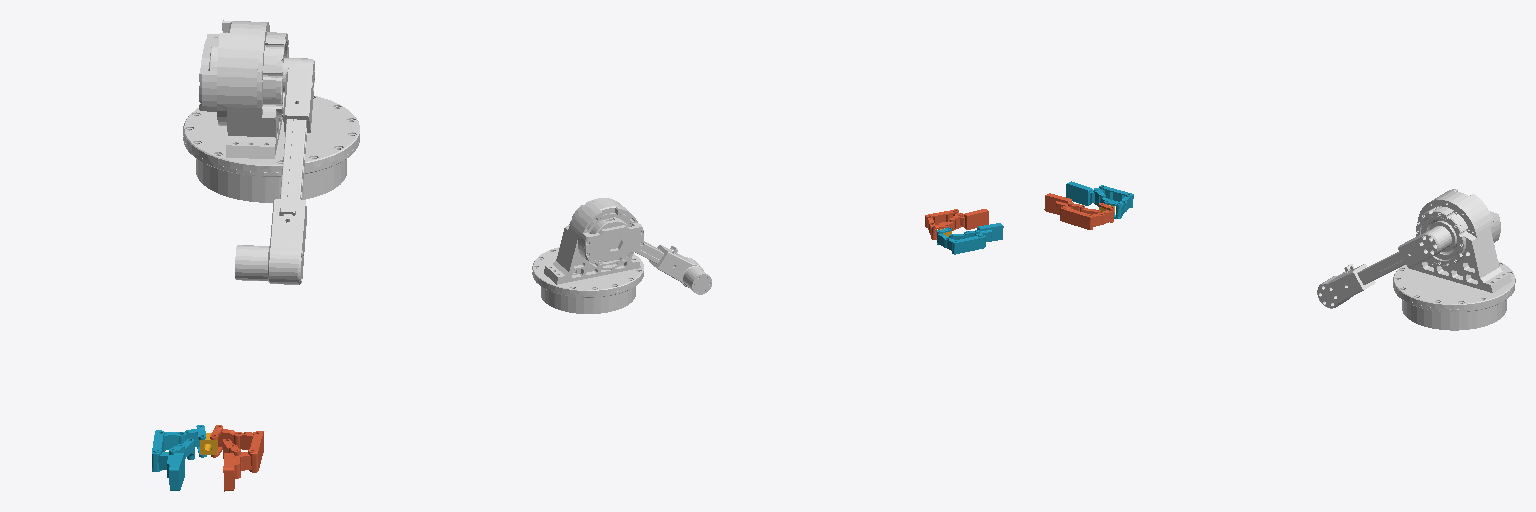
The robot description file, URDF, robot "pallet_adaptive":
<?xml version='1.0' encoding='utf-8'?>
<robot name="pallet_adaptive">
  <link name="base_link">
    <inertial>
      <origin xyz="-0.0017917270976323 0.039217584410161 2.223709062954e-05" rpy="-0.078609874443187 1.0498236515473 2.0863790813064e-08" />
      <mass value="1.662859" />
      <inertia ixx="0.00332054" ixy="3.163E-05" ixz="-3.99E-06" iyy="0.00471532" iyz="-5.546E-05" izz="0.00331361" />
    </inertial>
    <visual>
      <origin xyz="0.1508160199299 0.66028162834058 1.4520054605764" rpy="-1.6494062012381 1.0498236515473 2.0863798244619e-08" />
      <geometry>
        <mesh filename="package://pallet/meshes/mass_revised/base_link.STL" />
      </geometry>
      <material name="">
        <color rgba="0.89412 0.89412 0.89412 1" />
      </material>
    </visual>
    <collision>
      <origin xyz="0.1508160199299 0.66028162834058 1.4520054605764" rpy="-1.6494062012381 1.0498236515473 2.0863798244619e-08" />
      <geometry>
        <mesh filename="package://pallet/meshes/mass_revised/base_link.STL" />
      </geometry>
    </collision>
  </link>
  <link name="no.1">
    <inertial>
      <origin xyz="0.0091039 0.072516 0.0063557" rpy="-6.2450045135166e-17 0 -5.5511151231256e-17" />
      <mass value="0.99102896" />
      <inertia ixx="0.00249001" ixy="-0.00026003" ixz="4.608E-05" iyy="0.00199329" iyz="-0.00014996" izz="0.00280726" />
    </inertial>
    <visual>
      <origin xyz="6.2450045135165e-17 -3.1918911957973e-16 -1.5612511283791e-17" rpy="-6.2450045135166e-17 0 -5.5511151231256e-17" />
      <geometry>
        <mesh filename="package://pallet/meshes/mass_revised/no.1.STL" />
      </geometry>
      <material name="">
        <color rgba="0.89412 0.89412 0.89412 1" />
      </material>
    </visual>
    <collision>
      <origin xyz="6.2450045135165e-17 -3.1918911957973e-16 -1.5612511283791e-17" rpy="-6.2450045135166e-17 0 -5.5511151231256e-17" />
      <geometry>
        <mesh filename="package://pallet/meshes/mass_revised/no.1.STL" />
      </geometry>
    </collision>
  </link>
  <link name="no.2">
    <inertial>
      <origin xyz="-0.12460462302051 2.647881186659e-05 0.022347999998403" rpy="5.9330673707336e-10 1.2150682682233e-09 -1.1758077977651" />
      <mass value="0.202" />
      <inertia ixx="0.00087971" ixy="0.00070208" ixz="3.72E-05" iyy="0.00066466" iyz="4.686E-05" izz="0.00145567" />
    </inertial>
    <visual>
      <origin xyz="2.1002838369749e-11 3.343069579193e-11 8.3446374568628e-12" rpy="5.9330673707336e-10 1.2150682682233e-09 -1.1758077977651" />
      <geometry>
        <mesh filename="package://pallet/meshes/mass_revised/no.2.STL" />
      </geometry>
      <material name="">
        <color rgba="0.89412 0.89412 0.89412 1" />
      </material>
    </visual>
    <collision>
      <origin xyz="2.1002838369749e-11 3.343069579193e-11 8.3446374568628e-12" rpy="5.9330673707336e-10 1.2150682682233e-09 -1.1758077977651" />
      <geometry>
        <mesh filename="package://pallet/meshes/mass_revised/no.2.STL" />
      </geometry>
    </collision>
  </link>
  <link name="no.3">
    <inertial>
      <origin xyz="-0.020747000030904 -2.8478339899024e-05 0.043723333770644" rpy="-2.3218510786302e-11 2.5401458714214e-10 -1.1480782355438e-09" />
      <mass value="1.166" />
      <inertia ixx="0.00640585" ixy="0.0016851" ixz="0.00022465" iyy="0.00148047" iyz="0.00077631" izz="0.00660946" />
    </inertial>
    <visual>
      <origin xyz="2.3009976746429e-10 0.21503152163758 0.099227333760381" rpy="-2.3218510786302e-11 2.5401458714214e-10 -1.1480782355438e-09" />
      <geometry>
        <mesh filename="package://pallet/meshes/mass_revised/no.3.STL" />
      </geometry>
      <material name="">
        <color rgba="0.89412 0.89412 0.89412 1" />
      </material>
    </visual>
    <collision>
      <origin xyz="2.3009976746429e-10 0.21503152163758 0.099227333760381" rpy="-2.3218510786302e-11 2.5401458714214e-10 -1.1480782355438e-09" />
      <geometry>
        <mesh filename="package://pallet/meshes/mass_revised/no.3.STL" />
      </geometry>
    </collision>
  </link>
  <link name="no.4">
    <inertial>
      <origin xyz="-0.0015161135473846 1.7940428258256e-05 0.053987334130975" rpy="-9.3710840855871e-10 6.8296568400683e-10 2.5242980198848e-10" />
      <mass value="0.25212036" />
      <inertia ixx="5.542E-05" ixy="4.87E-06" ixz="6.21E-06" iyy="4.106E-05" iyz="8.2E-07" izz="5.036E-05" />
    </inertial>
    <visual>
      <origin xyz="0.12425388643922 0.1754979405024 0.099227333880634" rpy="-9.3710840855871e-10 6.8296568400683e-10 2.5242980198848e-10" />
      <geometry>
        <mesh filename="package://pallet/meshes/mass_revised/no.4.STL" />
      </geometry>
      <material name="">
        <color rgba="1 1 1 1" />
      </material>
    </visual>
    <collision>
      <origin xyz="0.12425388643922 0.1754979405024 0.099227333880634" rpy="-9.3710840855871e-10 6.8296568400683e-10 2.5242980198848e-10" />
      <geometry>
        <mesh filename="package://pallet/meshes/mass_revised/no.4.STL" />
      </geometry>
    </collision>
  </link>
  <link name="no.5">
    <inertial>
      <origin xyz="9.6113877699783e-05 -1.5063608519134e-05 -0.046222739292869" rpy="-6.6087677933213e-10 -9.9955599353052e-10 -6.6656042383513e-11" />
      <mass value="0.35" />
      <inertia ixx="0.00019208" ixy="-5.496E-05" ixz="-5.071E-05" iyy="0.00026015" iyz="3.054E-05" izz="0.00020944" />
    </inertial>
    <visual>
      <origin xyz="-0.12425388602693 -0.1340650636692 -0.15057273932857" rpy="-6.6087677933213e-10 -9.9955599353052e-10 -6.6656042383513e-11" />
      <geometry>
        <mesh filename="package://pallet/meshes/mass_revised/no.5.STL" />
      </geometry>
      <material name="">
        <color rgba="0.89412 0.89412 0.89412 1" />
      </material>
    </visual>
    <collision>
      <origin xyz="-0.12425388602693 -0.1340650636692 -0.15057273932857" rpy="-6.6087677933213e-10 -9.9955599353052e-10 -6.6656042383513e-11" />
      <geometry>
        <mesh filename="package://pallet/meshes/mass_revised/no.5.STL" />
      </geometry>
    </collision>
  </link>
  <link name="gripper">
    <inertial>
      <origin xyz="-5.2809570660339e-06 -0.0028472612426801 -0.00012798006247315" rpy="-1.2295285164861e-09 -0.8073483958801 1.0329738076366e-09" />
      <mass value="0.35218616" />
      <inertia ixx="0.00017781" ixy="-5.818E-05" ixz="7.205E-05" iyy="0.00024068" iyz="3.354E-05" izz="0.00022588" />
    </inertial>
    <visual>
      <origin xyz="0.16586133531753 0.15057273884674 0.076827644210076" rpy="-1.2295285164861e-09 -0.8073483958801 1.0329738076366e-09" />
      <geometry>
        <mesh filename="package://pallet/meshes/mass_revised/gripper.STL" />
      </geometry>
      <material name="">
        <color rgba="0.89412 0.89412 0.89412 1" />
      </material>
    </visual>
    <collision>
      <origin xyz="0.16586133531753 0.15057273884674 0.076827644210076" rpy="-1.2295285164861e-09 -0.8073483958801 1.0329738076366e-09" />
      <geometry>
        <mesh filename="package://pallet/meshes/mass_revised/gripper.STL" />
      </geometry>
    </collision>
  </link>
  <joint name="J1" type="revolute">
    <origin xyz="-0.0019451 0.043004 0" rpy="-3.141585307179587 -0.4386100000000002 -3.0964" />
    <parent link="base_link" />
    <child link="no.1" />
    <axis xyz="0 1 0" />
    <limit lower="-3.141592653589793" upper="3.141592653589793" effort="14" velocity="6.28" />
  </joint>
  <joint name="J2" type="revolute">
    <origin xyz="0.0133081654565508 0.11835224659499 -0.00768347290876137" rpy="-2.815387738468897 -0.4171744477814099 2.445921489969222" />
    <parent link="no.1" />
    <child link="no.2" />
    <axis xyz="0 0 1" />
    <limit lower="-3.141592653589793" upper="3.141592653589793" effort="36" velocity="6.28" />
  </joint>
  <joint name="J3" type="revolute">
    <origin xyz="-0.213500000000005 0 0" rpy="-0.6266699393927205 -1.570796326794893 0" />
    <parent link="no.2" />
    <child link="no.3" />
    <axis xyz="1 0 0" />
    <limit lower="-3.141592653589793" upper="3.141592653589793" effort="14" velocity="6.28" />
  </joint>
  <joint name="J4" type="revolute">
    <origin xyz="-0.00799931400118803 -0.000150000000022965 0.167232496581933" rpy="0 0 0.05608003923819587" />
    <parent link="no.3" />
    <child link="no.4" />
    <axis xyz="0 0 -1" />
    <limit lower="-3.141592653589793" upper="3.141592653589793" effort="5.5" velocity="6.28" />
  </joint>
  <joint name="J5" type="revolute">
    <origin xyz="0 0 0.065768" rpy="-3.141488347732657 4.440892098500626e-16 -3.141585307179586" />
    <parent link="no.4" />
    <child link="no.5" />
    <axis xyz="1 0 0" />
    <limit lower="-3.141592653589793" upper="3.141592653589793" effort="5.5" velocity="6.28" />
  </joint>
  <joint name="J6" type="revolute">
    <origin xyz="0.00205 0 -0.15365" rpy="-1.570792653594452 -5.850140816221483e-09 1.198485307179575" />
    <parent link="no.5" />
    <child link="gripper" />
    <axis xyz="0 1 0" />
    <limit lower="-3.141592653589793" upper="3.141592653589793" effort="10" velocity="3.14" />
  </joint>
  <link name="base_footprint" />
  <joint name="base_footprint_joint" type="fixed">
    <parent link="base_footprint" />
    <child link="base_link" />
    <origin xyz="0.0001908929909025046 1.362578164557294e-10 3.325344132606295e-08" rpy="1.570796294509593 0.04519991100052101 -7.297706883235833e-10" />
  </joint>
  <link name="adaptive_frame" />
  <link name="move_gripper">
    <inertial>
      <origin xyz="-3.5613040225702e-06 0.0080027382199954 -1.5628113537447e-06" rpy="8.3615931554405e-09 -0.80734837208628 3.5027528945423e-09" />
      <mass value="0.027" />
      <inertia ixx="1.3E-06" ixy="5E-08" ixz="6E-08" iyy="1.27E-06" iyz="0" izz="1.28E-06" />
    </inertial>
    <visual>
      <origin xyz="-0.0075071007659241 0.15057273709249 0.18263656249944" rpy="8.3615931554405e-09 -0.80734837208628 3.5027528945423e-09" />
      <geometry>
        <mesh filename="package://pallet/meshes/mass_revised/move_gripper.STL" />
      </geometry>
      <material name="adaptive_nut">
        <color rgba="0.96 0.71 0.20 1" />
      </material>
    </visual>
    <collision>
      <origin xyz="-0.0075071007659241 0.15057273709249 0.18263656249944" rpy="8.3615931554405e-09 -0.80734837208628 3.5027528945423e-09" />
      <geometry>
        <mesh filename="package://pallet/meshes/mass_revised/move_gripper.STL" />
      </geometry>
    </collision>
  </link>
  <joint name="adaptive_frame_joint" type="fixed">
    <parent link="gripper" />
    <child link="adaptive_frame" />
    <origin xyz="0 0.0299209524500723 0" rpy="0 1.17809724509618 0" />
  </joint>
  <joint name="g2" type="prismatic">
    <parent link="gripper" />
    <child link="move_gripper" />
    <origin xyz="0 0.0299209524500723 0" rpy="0 1.17809724509618 0" />
    <axis xyz="0 1 0" />
    <limit lower="-0.0023709343700000006" upper="0.005629065629999999" effort="1" velocity="0.1" />
  </joint>
  <link name="r_rocker_link">
    <visual>
      <geometry>
        <mesh filename="package://pallet/meshes/adaptive_gripper/r_6.stl" />
      </geometry>
      <material name="adaptive_r">
        <color rgba="0.91 0.43 0.29 1" />
      </material>
    </visual>
    <collision>
      <geometry>
        <mesh filename="package://pallet/meshes/adaptive_gripper/r_6.stl" />
      </geometry>
    </collision>
  </link>
  <joint name="r_rocker" type="revolute">
    <parent link="adaptive_frame" />
    <child link="r_rocker_link" />
    <origin xyz="-0.02849998755696433 -0.001370978712394774 0" rpy="0 0 0" />
    <axis xyz="0 0 1" />
    <limit lower="-2.4" upper="2.4" effort="1" velocity="0.1" />
  </joint>
  <link name="r_helper_link">
    <visual>
      <geometry>
        <mesh filename="package://pallet/meshes/adaptive_gripper/r_4.stl" />
      </geometry>
      <material name="adaptive_r">
        <color rgba="0.91 0.43 0.29 1" />
      </material>
    </visual>
    <collision>
      <geometry>
        <mesh filename="package://pallet/meshes/adaptive_gripper/r_4.stl" />
      </geometry>
    </collision>
    <visual>
      <geometry>
        <mesh filename="package://pallet/meshes/adaptive_gripper/r_5.stl" />
      </geometry>
      <material name="adaptive_r">
        <color rgba="0.91 0.43 0.29 1" />
      </material>
    </visual>
    <collision>
      <geometry>
        <mesh filename="package://pallet/meshes/adaptive_gripper/r_5.stl" />
      </geometry>
    </collision>
  </link>
  <joint name="r_helper" type="revolute">
    <parent link="move_gripper" />
    <child link="r_helper_link" />
    <origin xyz="-0.005749988395356924 0.01299995908136959 0" rpy="0 0 0" />
    <axis xyz="0 0 1" />
    <limit lower="-2.4" upper="2.4" effort="1" velocity="0.1" />
  </joint>
  <link name="r_outer_link">
    <visual>
      <geometry>
        <mesh filename="package://pallet/meshes/adaptive_gripper/r_2.stl" />
      </geometry>
      <material name="adaptive_r">
        <color rgba="0.91 0.43 0.29 1" />
      </material>
    </visual>
    <collision>
      <geometry>
        <mesh filename="package://pallet/meshes/adaptive_gripper/r_2.stl" />
      </geometry>
    </collision>
  </link>
  <joint name="r_outer" type="revolute">
    <parent link="r_rocker_link" />
    <child link="r_outer_link" />
    <origin xyz="-0.01927797673291352 0.005325379735317867 0" rpy="0 0 0" />
    <axis xyz="0 0 1" />
    <limit lower="-2.4" upper="2.4" effort="1" velocity="0.1" />
  </joint>
  <link name="r_pad_link">
    <visual>
      <geometry>
        <mesh filename="package://pallet/meshes/adaptive_gripper/r_yoke.stl" />
      </geometry>
      <material name="adaptive_r">
        <color rgba="0.91 0.43 0.29 1" />
      </material>
    </visual>
    <collision>
      <geometry>
        <mesh filename="package://pallet/meshes/adaptive_gripper/r_yoke.stl" />
      </geometry>
    </collision>
  </link>
  <joint name="r_pad" type="revolute">
    <parent link="r_outer_link" />
    <child link="r_pad_link" />
    <origin xyz="0.001205812284263301 0.04398347417040727 0" rpy="0 0 0" />
    <axis xyz="0 0 1" />
    <limit lower="-2.4" upper="2.4" effort="1" velocity="0.1" />
  </joint>
  <link name="r_wrist_link">
    <visual>
      <geometry>
        <mesh filename="package://pallet/meshes/adaptive_gripper/r_contact_pad.stl" />
      </geometry>
      <material name="adaptive_r">
        <color rgba="0.91 0.43 0.29 1" />
      </material>
    </visual>
    <collision>
      <geometry>
        <mesh filename="package://pallet/meshes/adaptive_gripper/r_contact_pad.stl" />
      </geometry>
    </collision>
  </link>
  <joint name="r_wrist" type="revolute">
    <parent link="r_pad_link" />
    <child link="r_wrist_link" />
    <origin xyz="0.01473389247159265 0.0009535416012521405 0" rpy="0 0 0" />
    <axis xyz="0 0 1" />
    <limit lower="-2.4" upper="2.4" effort="1" velocity="0.1" />
  </joint>
  <link name="r_inner_lower_link">
    <visual>
      <geometry>
        <mesh filename="package://pallet/meshes/adaptive_gripper/r_3.stl" />
      </geometry>
      <material name="adaptive_r">
        <color rgba="0.91 0.43 0.29 1" />
      </material>
    </visual>
    <collision>
      <geometry>
        <mesh filename="package://pallet/meshes/adaptive_gripper/r_3.stl" />
      </geometry>
    </collision>
  </link>
  <joint name="r_inner_lower" type="revolute">
    <parent link="adaptive_frame" />
    <child link="r_inner_lower_link" />
    <origin xyz="-0.01799998750512161 0.01082902149690609 0" rpy="0 0 0" />
    <axis xyz="0 0 1" />
    <limit lower="-2.4" upper="2.4" effort="1" velocity="0.1" />
  </joint>
  <link name="r_inner_upper_link">
    <visual>
      <geometry>
        <mesh filename="package://pallet/meshes/adaptive_gripper/r_1.stl" />
      </geometry>
      <material name="adaptive_r">
        <color rgba="0.91 0.43 0.29 1" />
      </material>
    </visual>
    <collision>
      <geometry>
        <mesh filename="package://pallet/meshes/adaptive_gripper/r_1.stl" />
      </geometry>
    </collision>
  </link>
  <joint name="r_inner_upper" type="revolute">
    <parent link="r_inner_lower_link" />
    <child link="r_inner_upper_link" />
    <origin xyz="-0.007822162865883209 0.0216290017281906 0" rpy="0 0 0" />
    <axis xyz="0 0 1" />
    <limit lower="-2.4" upper="2.4" effort="1" velocity="0.1" />
  </joint>
  <link name="l_rocker_link">
    <visual>
      <geometry>
        <mesh filename="package://pallet/meshes/adaptive_gripper/l_6.stl" />
      </geometry>
      <material name="adaptive_l">
        <color rgba="0.18 0.68 0.81 1" />
      </material>
    </visual>
    <collision>
      <geometry>
        <mesh filename="package://pallet/meshes/adaptive_gripper/l_6.stl" />
      </geometry>
    </collision>
  </link>
  <joint name="l_rocker" type="revolute">
    <parent link="adaptive_frame" />
    <child link="l_rocker_link" />
    <origin xyz="0.0284999877091221 -0.001370978646295075 0" rpy="0 0 0" />
    <axis xyz="0 0 1" />
    <limit lower="-2.4" upper="2.4" effort="1" velocity="0.1" />
  </joint>
  <link name="l_helper_link">
    <visual>
      <geometry>
        <mesh filename="package://pallet/meshes/adaptive_gripper/l_4.stl" />
      </geometry>
      <material name="adaptive_l">
        <color rgba="0.18 0.68 0.81 1" />
      </material>
    </visual>
    <collision>
      <geometry>
        <mesh filename="package://pallet/meshes/adaptive_gripper/l_4.stl" />
      </geometry>
    </collision>
    <visual>
      <geometry>
        <mesh filename="package://pallet/meshes/adaptive_gripper/l_5.stl" />
      </geometry>
      <material name="adaptive_l">
        <color rgba="0.18 0.68 0.81 1" />
      </material>
    </visual>
    <collision>
      <geometry>
        <mesh filename="package://pallet/meshes/adaptive_gripper/l_5.stl" />
      </geometry>
    </collision>
  </link>
  <joint name="l_helper" type="revolute">
    <parent link="move_gripper" />
    <child link="l_helper_link" />
    <origin xyz="0.005749987188459985 0.01299995927413552 0" rpy="0 0 0" />
    <axis xyz="0 0 1" />
    <limit lower="-2.4" upper="2.4" effort="1" velocity="0.1" />
  </joint>
  <link name="l_outer_link">
    <visual>
      <geometry>
        <mesh filename="package://pallet/meshes/adaptive_gripper/l_2.stl" />
      </geometry>
      <material name="adaptive_l">
        <color rgba="0.18 0.68 0.81 1" />
      </material>
    </visual>
    <collision>
      <geometry>
        <mesh filename="package://pallet/meshes/adaptive_gripper/l_2.stl" />
      </geometry>
    </collision>
  </link>
  <joint name="l_outer" type="revolute">
    <parent link="l_rocker_link" />
    <child link="l_outer_link" />
    <origin xyz="0.0192779757866022 0.005325379512702934 0" rpy="0 0 0" />
    <axis xyz="0 0 1" />
    <limit lower="-2.4" upper="2.4" effort="1" velocity="0.1" />
  </joint>
  <link name="l_pad_link">
    <visual>
      <geometry>
        <mesh filename="package://pallet/meshes/adaptive_gripper/l_yoke.stl" />
      </geometry>
      <material name="adaptive_l">
        <color rgba="0.18 0.68 0.81 1" />
      </material>
    </visual>
    <collision>
      <geometry>
        <mesh filename="package://pallet/meshes/adaptive_gripper/l_yoke.stl" />
      </geometry>
    </collision>
  </link>
  <joint name="l_pad" type="revolute">
    <parent link="l_outer_link" />
    <child link="l_pad_link" />
    <origin xyz="-0.000989060498150153 0.0439888825308588 0" rpy="0 0 0" />
    <axis xyz="0 0 1" />
    <limit lower="-2.4" upper="2.4" effort="1" velocity="0.1" />
  </joint>
  <link name="l_wrist_link">
    <visual>
      <geometry>
        <mesh filename="package://pallet/meshes/adaptive_gripper/l_contact_pad.stl" />
      </geometry>
      <material name="adaptive_l">
        <color rgba="0.18 0.68 0.81 1" />
      </material>
    </visual>
    <collision>
      <geometry>
        <mesh filename="package://pallet/meshes/adaptive_gripper/l_contact_pad.stl" />
      </geometry>
    </collision>
  </link>
  <joint name="l_wrist" type="revolute">
    <parent link="l_pad_link" />
    <child link="l_wrist_link" />
    <origin xyz="-0.0147392801157144 0.0008663511275991617 0" rpy="0 0 0" />
    <axis xyz="0 0 1" />
    <limit lower="-2.4" upper="2.4" effort="1" velocity="0.1" />
  </joint>
  <link name="l_inner_lower_link">
    <visual>
      <geometry>
        <mesh filename="package://pallet/meshes/adaptive_gripper/l_3.stl" />
      </geometry>
      <material name="adaptive_l">
        <color rgba="0.18 0.68 0.81 1" />
      </material>
    </visual>
    <collision>
      <geometry>
        <mesh filename="package://pallet/meshes/adaptive_gripper/l_3.stl" />
      </geometry>
    </collision>
  </link>
  <joint name="l_inner_lower" type="revolute">
    <parent link="adaptive_frame" />
    <child link="l_inner_lower_link" />
    <origin xyz="0.01799998774757188 0.01082902152387462 0" rpy="0 0 0" />
    <axis xyz="0 0 1" />
    <limit lower="-2.4" upper="2.4" effort="1" velocity="0.1" />
  </joint>
  <link name="l_inner_upper_link">
    <visual>
      <geometry>
        <mesh filename="package://pallet/meshes/adaptive_gripper/l_1.stl" />
      </geometry>
      <material name="adaptive_l">
        <color rgba="0.18 0.68 0.81 1" />
      </material>
    </visual>
    <collision>
      <geometry>
        <mesh filename="package://pallet/meshes/adaptive_gripper/l_1.stl" />
      </geometry>
    </collision>
  </link>
  <joint name="l_inner_upper" type="revolute">
    <parent link="l_inner_lower_link" />
    <child link="l_inner_upper_link" />
    <origin xyz="0.007711793296710234 0.02166860011980657 0" rpy="0 0 0" />
    <axis xyz="0 0 1" />
    <limit lower="-2.4" upper="2.4" effort="1" velocity="0.1" />
  </joint>
  <link name="gripper_motor_reference" />
  <joint name="gripper_motor" type="revolute">
    <parent link="gripper" />
    <child link="gripper_motor_reference" />
    <axis xyz="0 1 0" />
    <limit lower="-12" upper="12" velocity="2.0" effort="1" />
  </joint>
</robot>

--- What the picture shows (computed from the rendered views, not written in the file) ---
3 views of the same robot in one strip: view 1: azimuth 30°, elevation 25°; view 2: azimuth 150°, elevation 25°; view 3: azimuth 270°, elevation 25° (orthographic).
Model pallet_adaptive with 25 links and 24 joints (21 revolute, 1 prismatic, 2 fixed), rooted at base_footprint, posed every joint at zero.
Visible links, largest first — view 1: no.1, no.2, l_wrist_link, r_wrist_link; view 2: no.1, no.2; view 3: no.1, no.2.
Boxes of the visible links, bbox=[...] form: no.1: bbox=[183, 20, 359, 202]; no.2: bbox=[235, 58, 314, 284]; l_wrist_link: bbox=[166, 454, 184, 490]; r_wrist_link: bbox=[223, 454, 240, 491]; no.1: bbox=[532, 198, 643, 313]; no.2: bbox=[635, 241, 711, 294]; no.1: bbox=[1393, 189, 1515, 330]; no.2: bbox=[1317, 226, 1451, 308].
Size in the robot's own frame: 0.5218 by 0.6737 by 0.1971 metres.
19 mesh visuals loaded from 24 distinct referenced files (19 binary STL); not drawn: 5 (reference not matched to a file when rendering).
